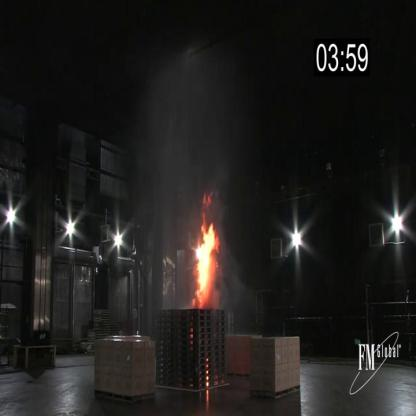fire: (194, 216, 223, 316)
